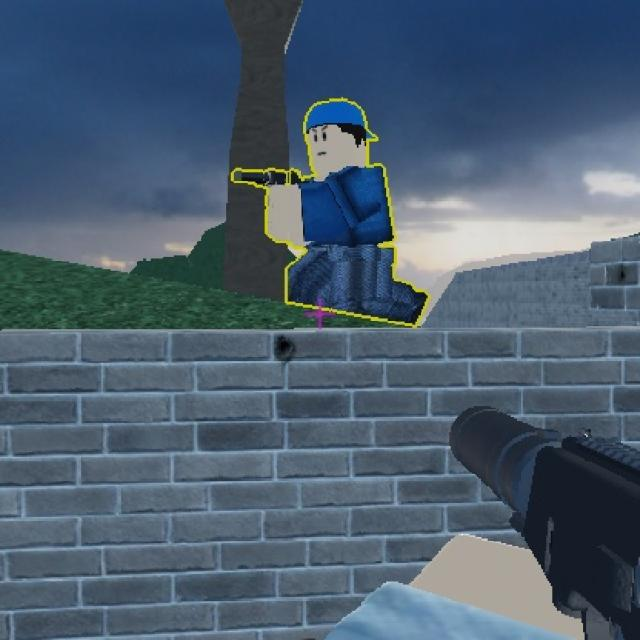player: (271, 90, 405, 342)
